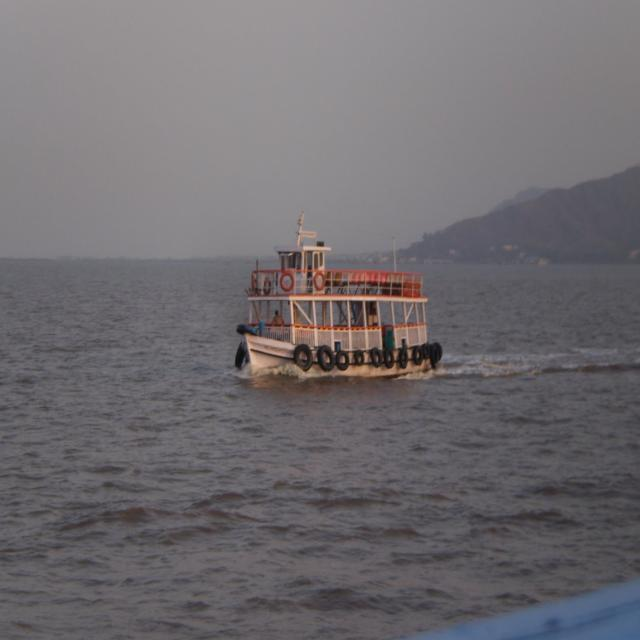fishing boat: (226, 218, 439, 386)
